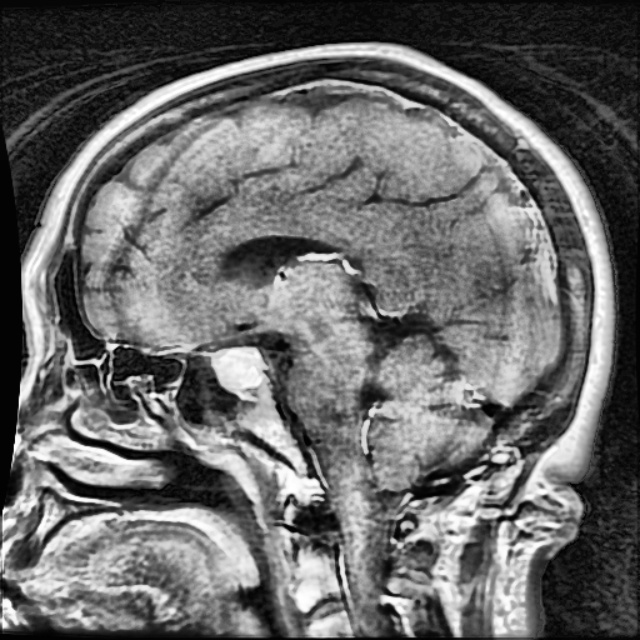Pituitary: (212, 347, 263, 389)
